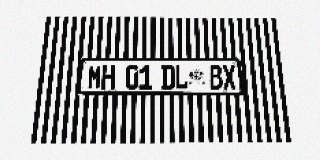0: (125, 65, 139, 89)
1: (139, 65, 152, 89)
B: (209, 65, 223, 89)
D: (161, 65, 175, 89)
H: (101, 65, 115, 89)
L: (175, 65, 188, 89)
M: (87, 65, 102, 89)
X: (222, 65, 237, 89)
